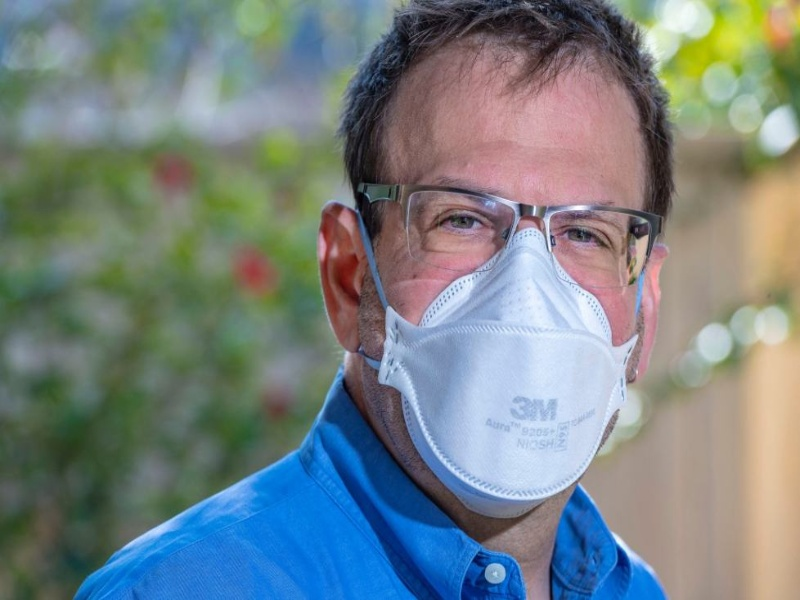mask: (374, 226, 635, 519)
